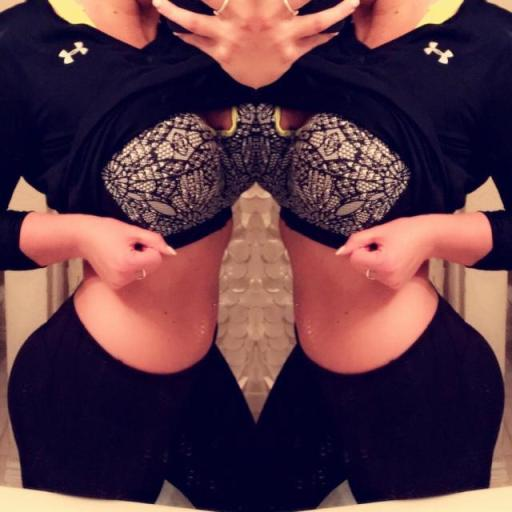Under Armour: (55, 38, 91, 66), (422, 39, 456, 68)
